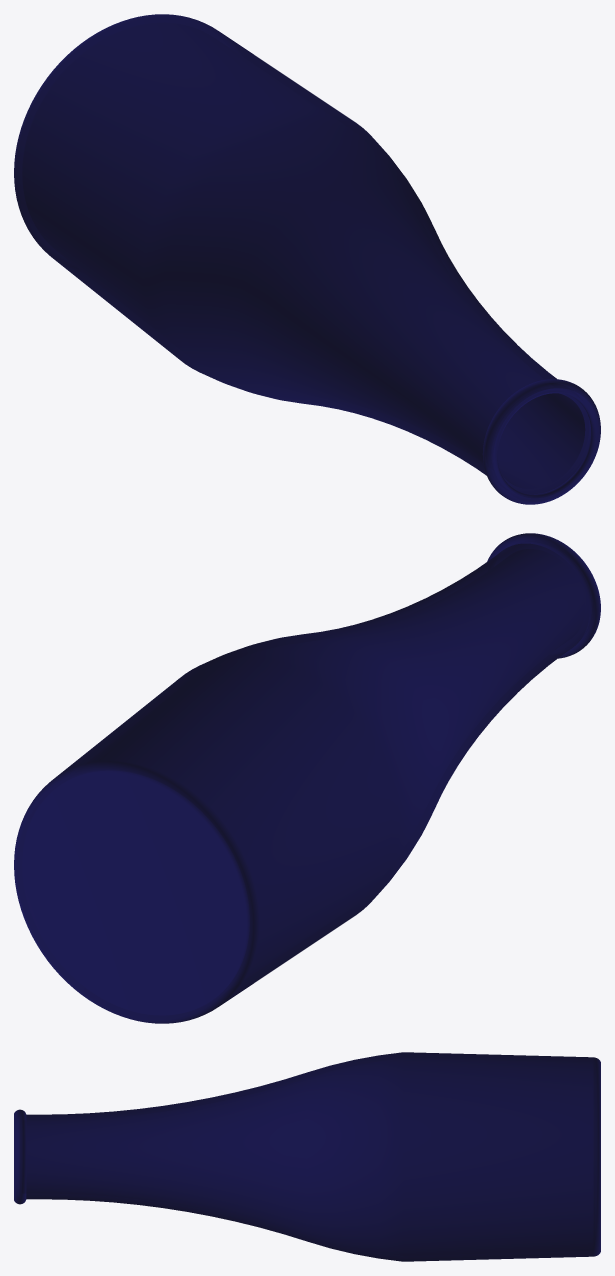
The model's file is model_scale.obj.
3 renders of one model, top to bottom at view 1: azimuth 30°, elevation 25°; view 2: azimuth 150°, elevation 25°; view 3: azimuth 270°, elevation 25°, orthographic. The views are drawn at different scales.
Visible parts, largest first — view 1: mesh1_mesh1-geometry; view 2: mesh1_mesh1-geometry; view 3: mesh1_mesh1-geometry.
Boxes of the visible parts, bbox=[...] form: mesh1_mesh1-geometry: bbox=[14, 14, 600, 504]; mesh1_mesh1-geometry: bbox=[14, 533, 600, 1023]; mesh1_mesh1-geometry: bbox=[14, 1052, 600, 1261].
Bounding box in the file's own units: 0.0976 × 0.0976 × 0.2735.
